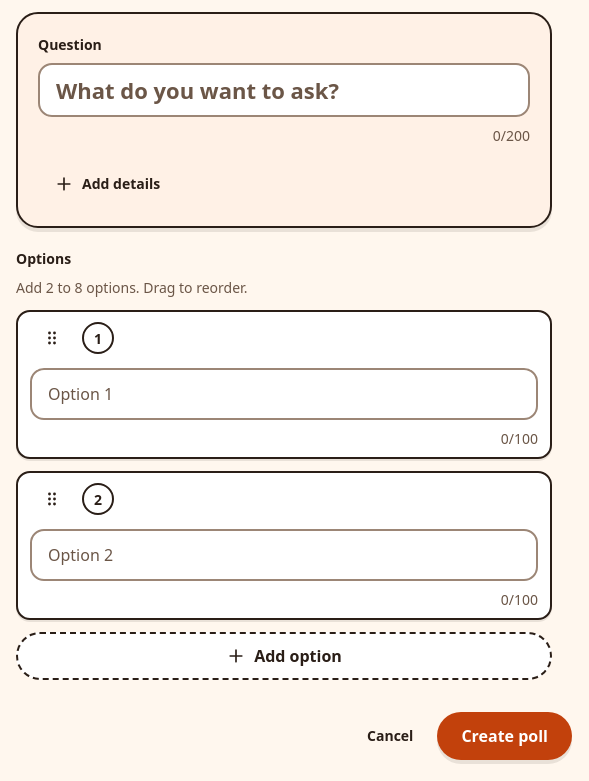
it: CreatePollPage › submitting an empty form shows errors, focuses the question, and saves nothing
(page scrolled)
Click the button "Create poll" at [505, 736], box [437,712,572,760]
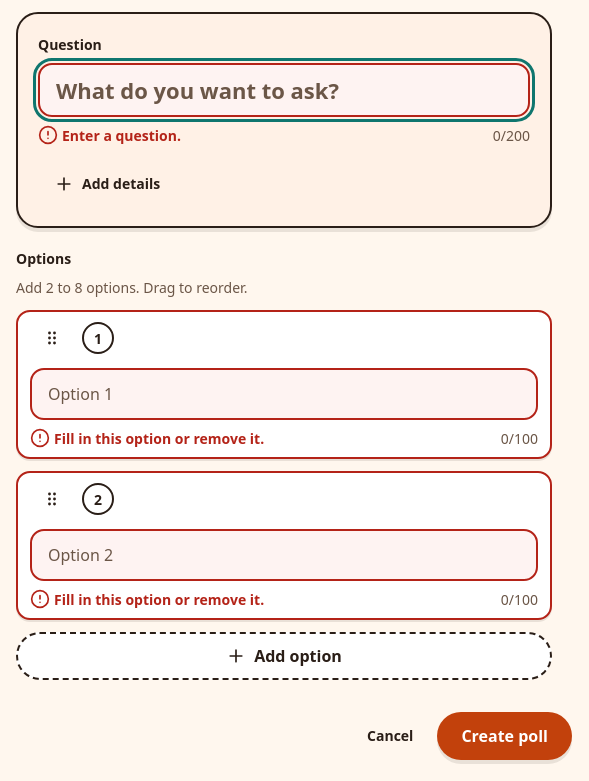
Result: the text "Enter a question." is shown at [62,125,181,146]
Result: the text "Fill in this option or remove it." is shown 2 times at [54,428,264,449]; [54,589,264,610]
